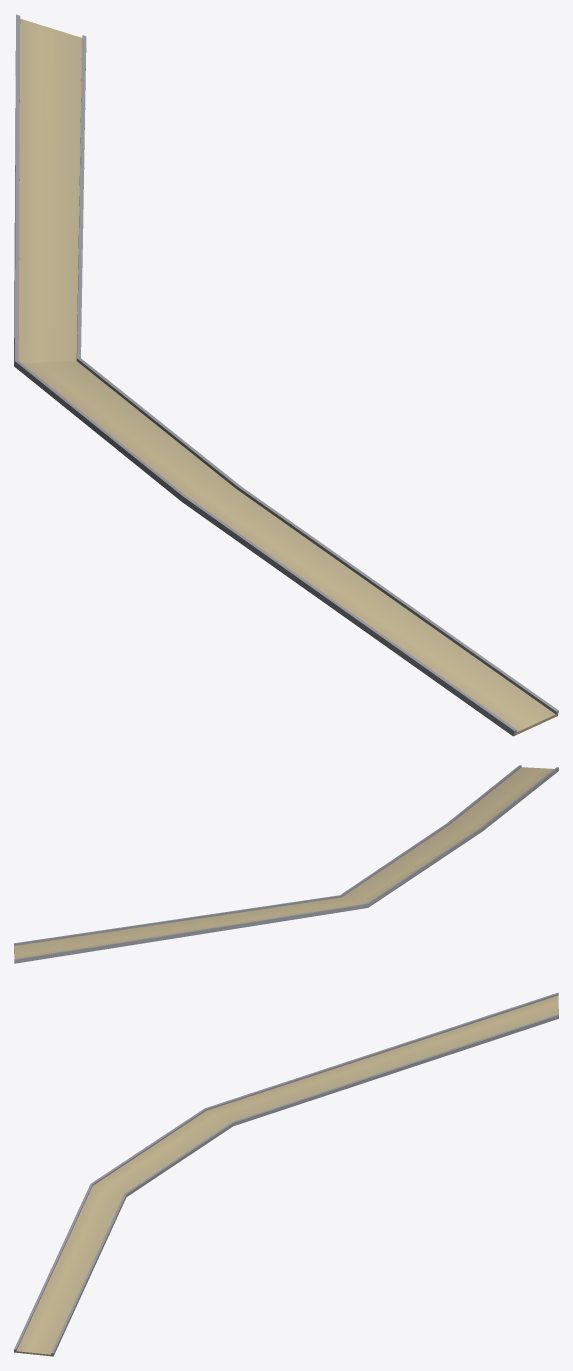
The model's file is sidewalk_9.fbx.
3 renders of one model, top to bottom at view 1: azimuth 30°, elevation 25°; view 2: azimuth 150°, elevation 25°; view 3: azimuth 330°, elevation 25°, orthographic. The views are drawn at different scales.
Parts seen in each view (by area): view 1: sidewalk_08; view 2: sidewalk_08; view 3: sidewalk_08.
Boxes of the visible parts, bbox=[...] form: sidewalk_08: bbox=[14, 14, 558, 736]; sidewalk_08: bbox=[14, 765, 558, 963]; sidewalk_08: bbox=[14, 992, 558, 1356].
Size of the model in its own units: 1.69 by 0.6757 by 5.92.
Materials: 1 (1 with a texture image).
